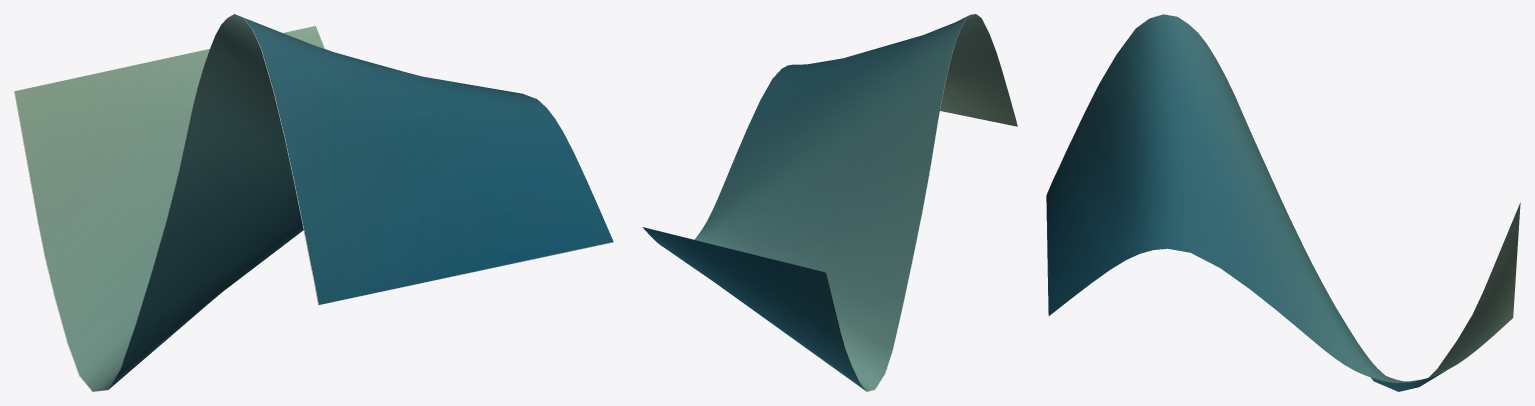
File: y=ksenx mayor recorrido.fbx
The picture shows the model from 3 angles, left to right: view 1: azimuth 30°, elevation 25°; view 2: azimuth 150°, elevation 25°; view 3: azimuth 270°, elevation 25°; orthographic projection. The views are drawn at different scales.
Visible parts, largest first — view 1: y_ksenx_kmayor1_recorrido:Mesh; view 2: y_ksenx_kmayor1_recorrido:Mesh; view 3: y_ksenx_kmayor1_recorrido:Mesh.
Part boxes in pixels (box(x1,y1,x2,y2)): y_ksenx_kmayor1_recorrido:Mesh: box(14, 14, 613, 391); y_ksenx_kmayor1_recorrido:Mesh: box(642, 14, 1017, 391); y_ksenx_kmayor1_recorrido:Mesh: box(1046, 14, 1520, 391).
Size of the model in its own units: 11.68 by 18.22 by 20.72.
